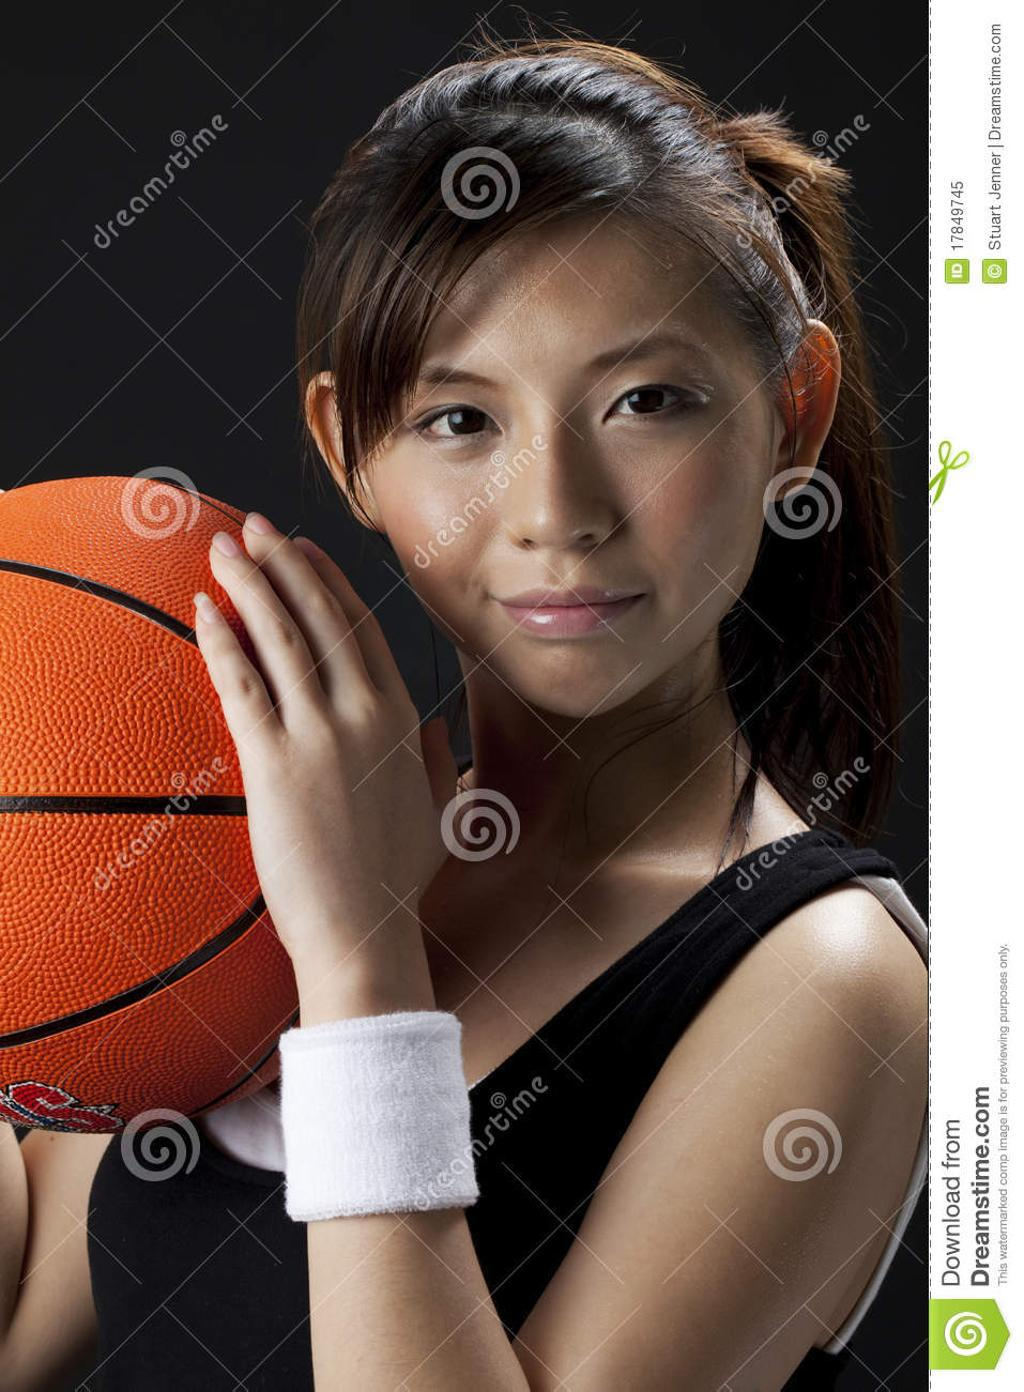face: (373, 194, 786, 713)
